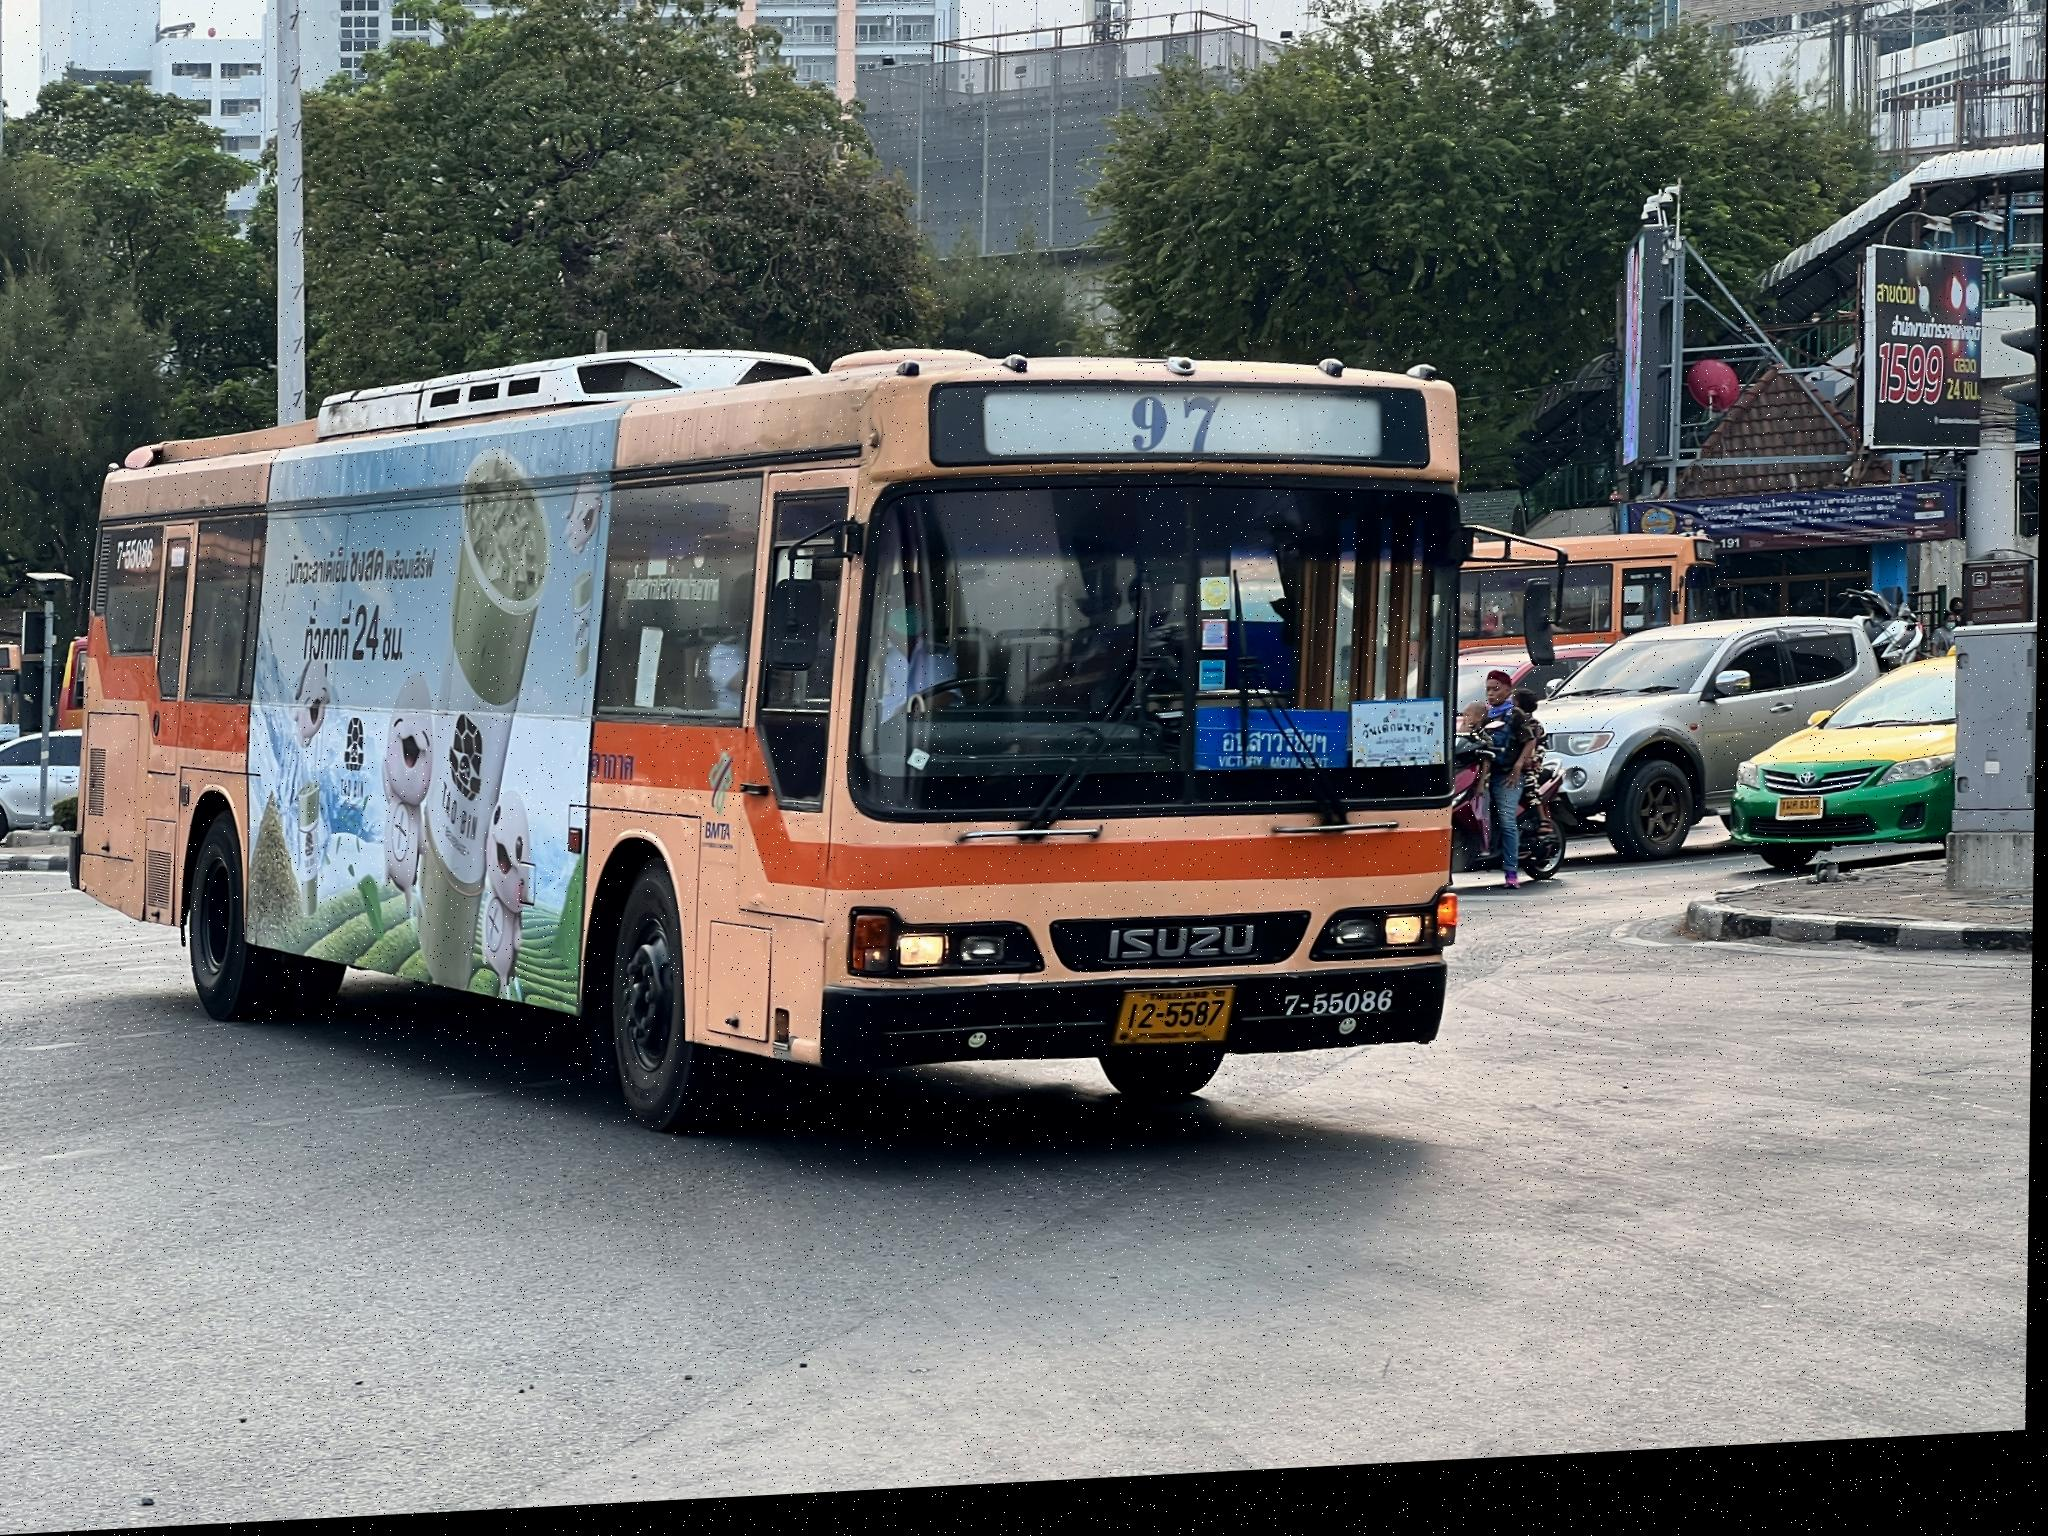BMTA-bus: (69, 358, 1472, 1142), (1466, 547, 1714, 831)
Bus Line Number: (1113, 390, 1240, 484)
Bus Side Number: (1280, 991, 1405, 1034)
Destination Sign: (1197, 713, 1351, 791)
